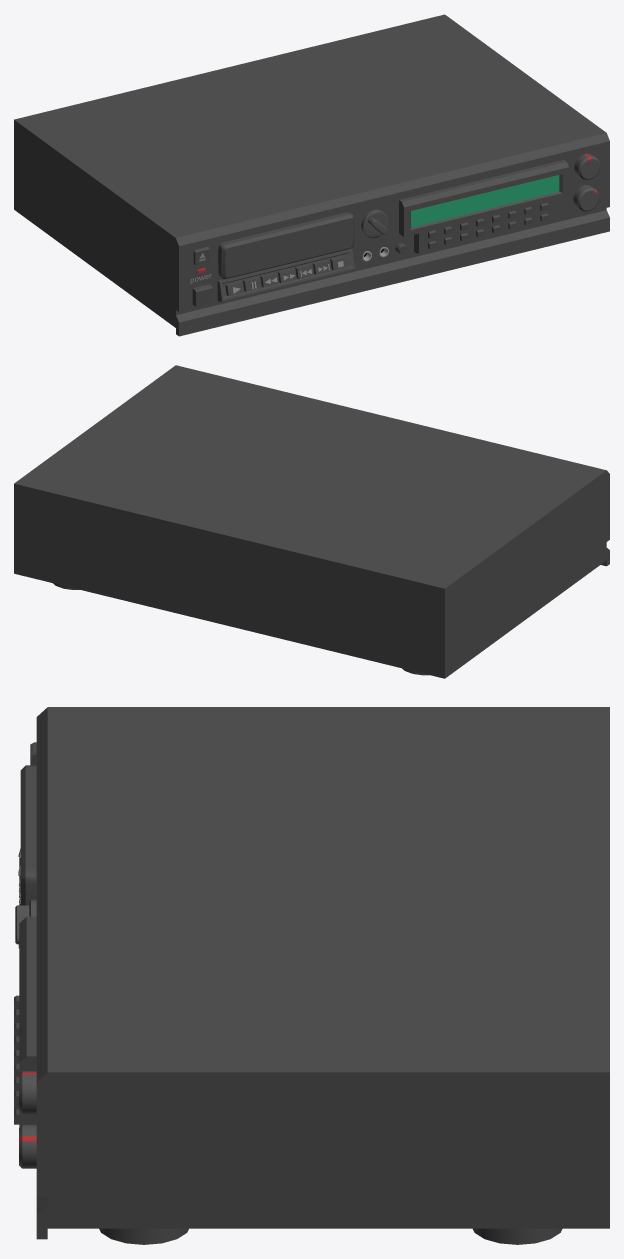
File: 3446_CD_Player.fbx
3 renders of one model, top to bottom at view 1: azimuth 30°, elevation 25°; view 2: azimuth 150°, elevation 25°; view 3: azimuth 270°, elevation 25°, orthographic. The views are drawn at different scales.
Parts seen in each view (by area): view 1: _unnamed_, obj1; view 2: _unnamed_; view 3: _unnamed_, obj1.
Boxes of the visible parts, box(x1,y1,x2,y2) form: _unnamed_: box(14, 14, 609, 336); obj1: box(218, 212, 354, 279); _unnamed_: box(14, 365, 609, 678); _unnamed_: box(14, 707, 609, 1244); obj1: box(20, 765, 36, 905).
Bounding box in the file's own units: 1.19 × 0.2803 × 0.8237.
